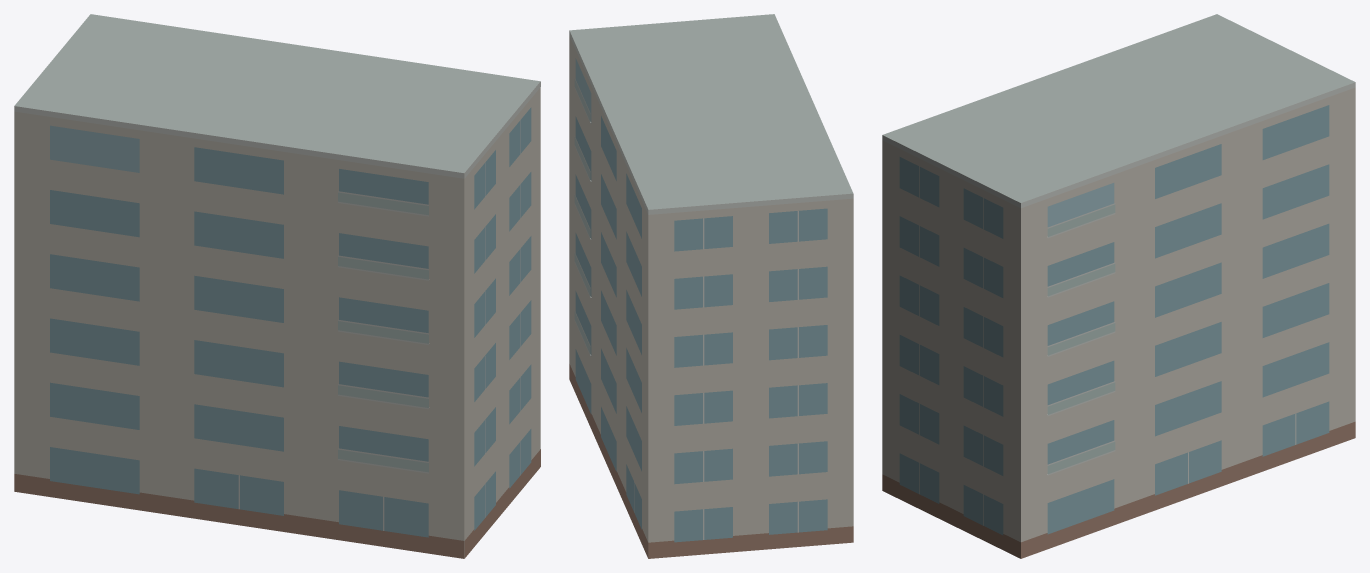
The model's file is survey-upis-32638285.glb.
The picture shows the model from 3 angles, left to right: view 1: azimuth 30°, elevation 25°; view 2: azimuth 150°, elevation 25°; view 3: azimuth 270°, elevation 25°; orthographic projection. The views are drawn at different scales.
Visible parts, largest first — view 1: survey-upis-32638285.tmp; view 2: survey-upis-32638285.tmp; view 3: survey-upis-32638285.tmp.
Part boxes in pixels (x1,y1,x2,y2): survey-upis-32638285.tmp: [14, 14, 540, 558]; survey-upis-32638285.tmp: [569, 14, 853, 558]; survey-upis-32638285.tmp: [882, 14, 1355, 558].
Bounding box in the file's own units: 19.16 × 16.8 × 20.27.
